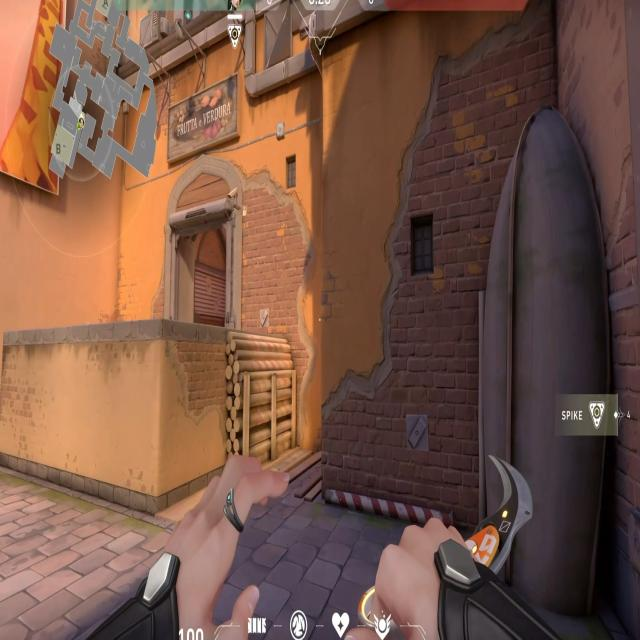B_Cubby: (153, 318, 300, 501)
